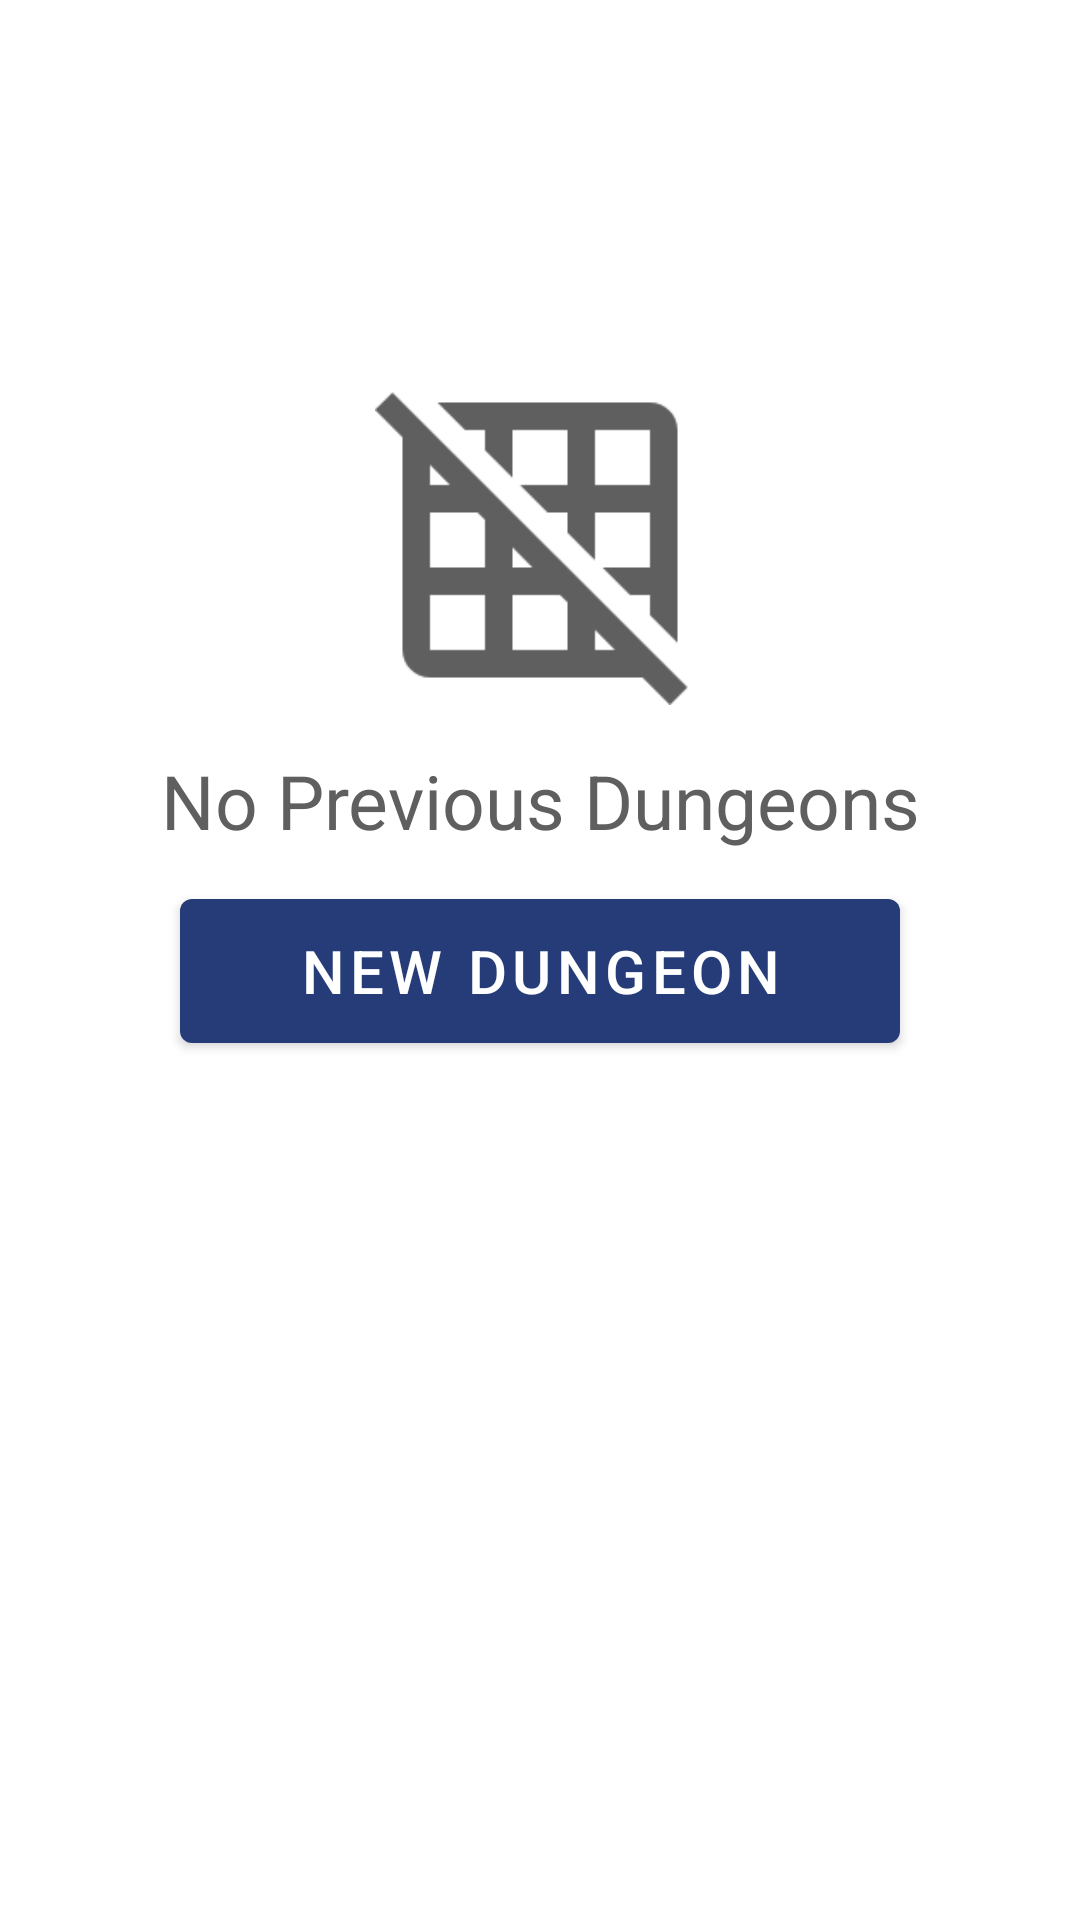

Named icons in this screenshot (1080w x 1920h) and their centers, (x,y):
grid off: (531,548)
